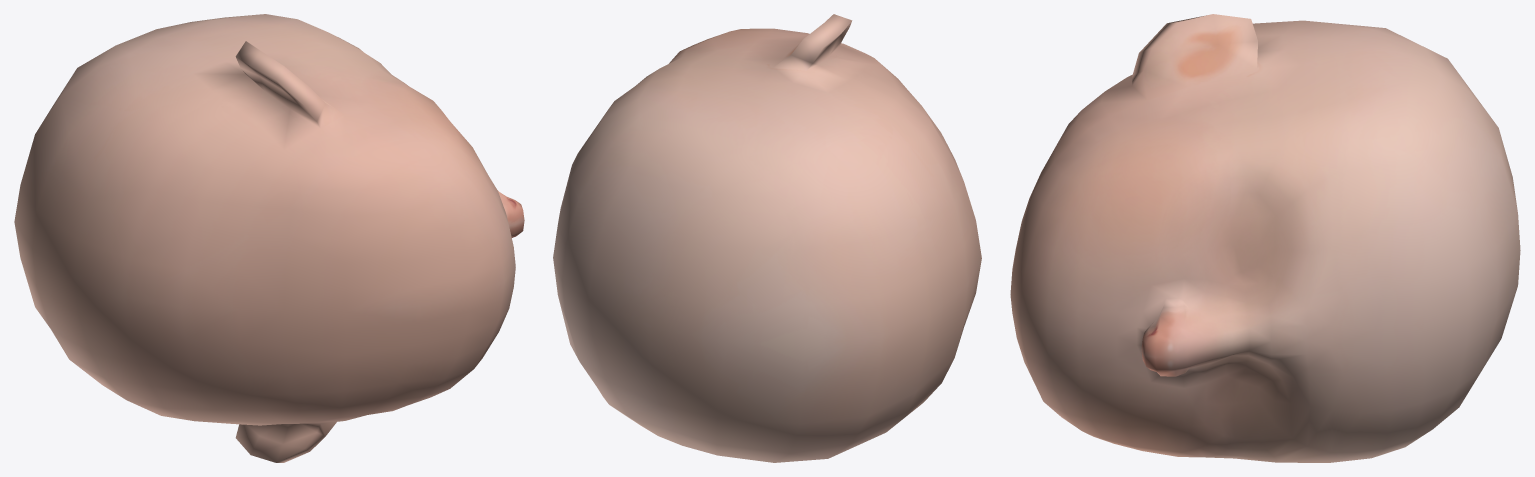
The model's file is head_00_04_016.FBX.
3 renders of one model, left to right at view 1: azimuth 30°, elevation 25°; view 2: azimuth 150°, elevation 25°; view 3: azimuth 270°, elevation 25°, orthographic. The views are drawn at different scales.
Visible parts, largest first — view 1: head_00_04_016; view 2: head_00_04_016; view 3: head_00_04_016.
Boxes of the visible parts, x1=… form: head_00_04_016: x1=14, y1=14, x2=524, y2=462; head_00_04_016: x1=553, y1=14, x2=981, y2=462; head_00_04_016: x1=1010, y1=14, x2=1520, y2=462.
Size of the model in its own units: 58.23 by 59.28 by 56.3.
